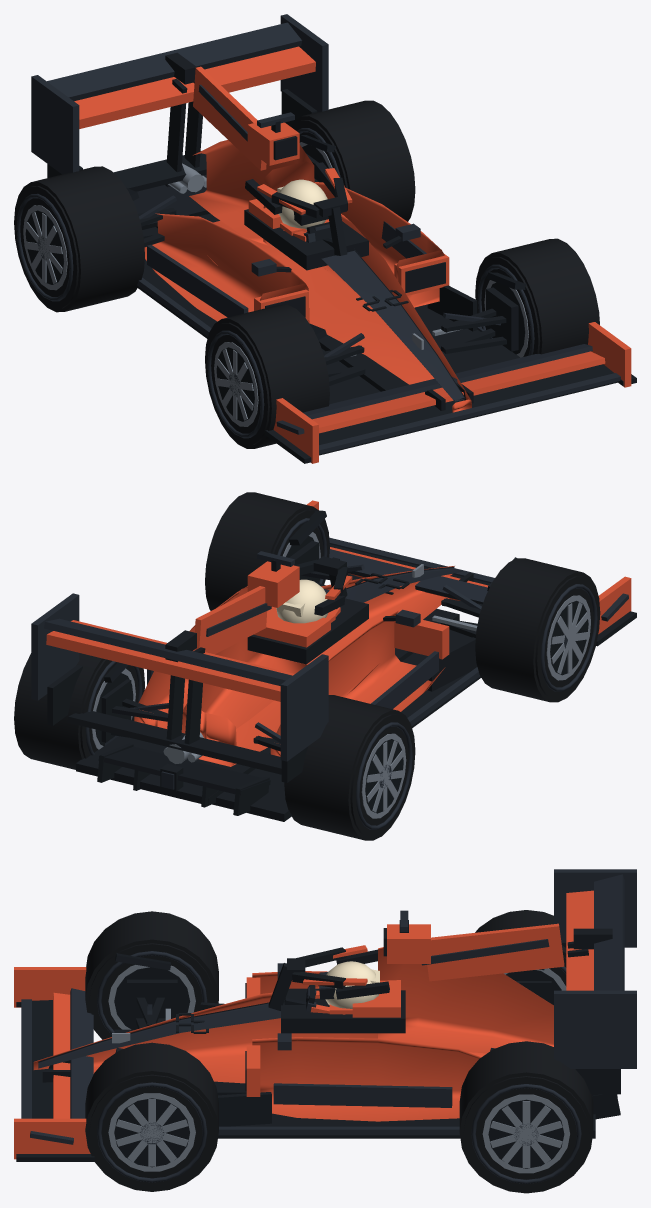
Rendered from ember-22.glb.
3 renders of one model, top to bottom at view 1: azimuth 30°, elevation 25°; view 2: azimuth 150°, elevation 25°; view 3: azimuth 270°, elevation 25°, orthographic.
Visible parts, largest first — view 1: formula-22, wheel (×4); view 2: formula-22, wheel (×4); view 3: formula-22, wheel (×4).
Part boxes in pixels (x1,y1,x2,y2): formula-22: [31, 14, 636, 463]; wheel (×4): [14, 100, 599, 448]; formula-22: [31, 500, 636, 821]; wheel (×4): [14, 492, 600, 840]; formula-22: [14, 869, 636, 1161]; wheel (×4): [85, 910, 593, 1193].
Size of the model in its own units: 3.41 by 1.85 by 5.41.
